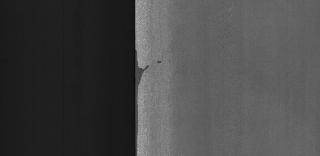water spot: (129, 48, 163, 104)
